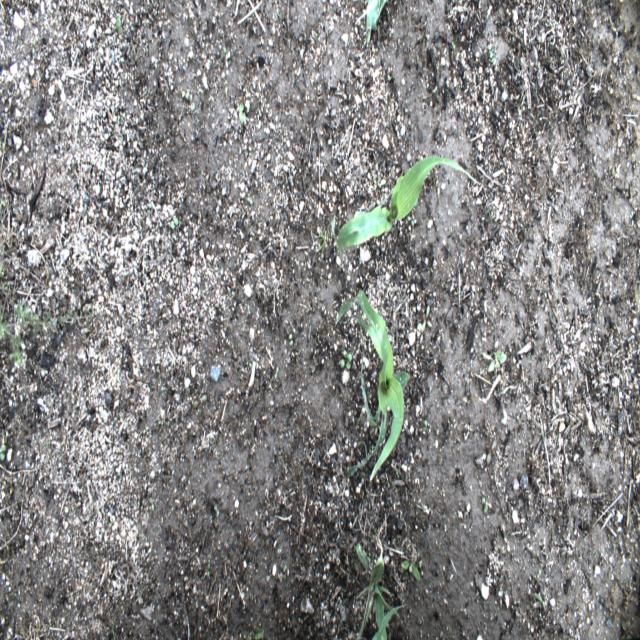crop: (335, 289, 410, 481), (335, 154, 481, 250), (356, 542, 401, 640), (370, 605, 406, 639), (365, 0, 387, 43)
weed: (0, 260, 94, 370), (315, 220, 338, 260), (487, 349, 507, 373), (400, 559, 420, 582), (420, 304, 433, 334), (485, 437, 498, 467), (369, 410, 383, 434), (618, 619, 634, 639), (192, 392, 208, 412), (184, 91, 196, 114), (237, 100, 247, 126), (340, 349, 352, 369), (480, 494, 492, 514), (534, 592, 546, 612), (247, 626, 264, 639), (168, 214, 180, 231), (0, 439, 7, 462), (372, 177, 382, 192), (281, 563, 287, 584), (213, 502, 220, 518), (422, 420, 429, 435), (145, 201, 152, 216), (406, 215, 414, 228), (288, 332, 294, 348), (246, 195, 254, 207), (629, 210, 634, 227), (207, 562, 211, 582), (488, 41, 492, 60), (536, 568, 542, 580), (451, 40, 456, 51), (368, 546, 370, 556)
